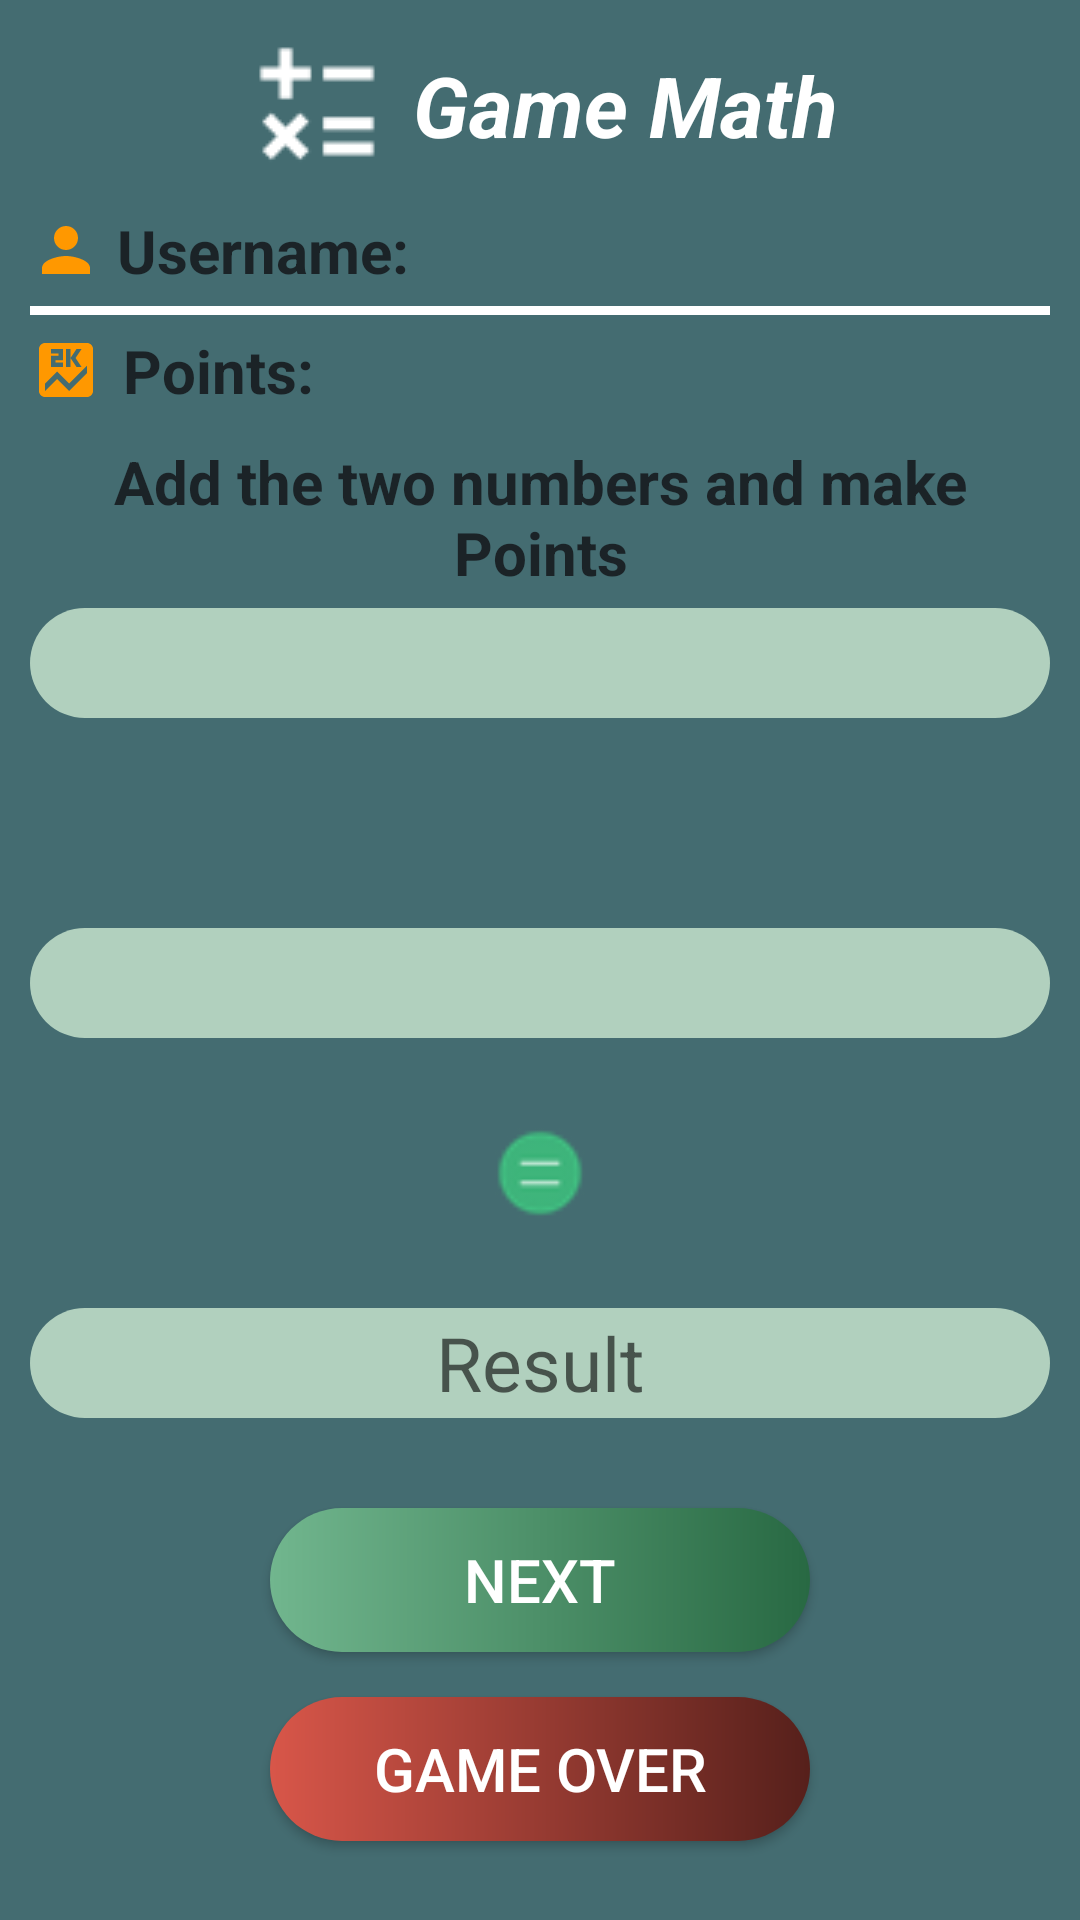

Icons on this 1080*1920 Android screen, each with the point to tap as (x,y):
equal: (540,1173)
